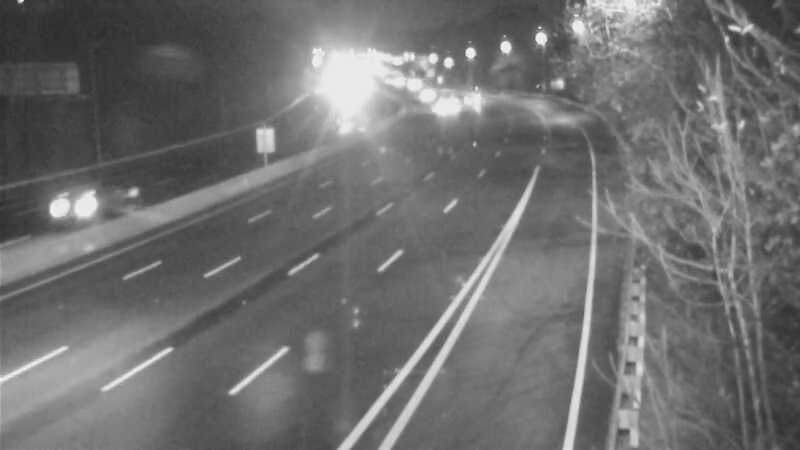vehicle: (31, 162, 111, 242), (419, 83, 469, 133)
